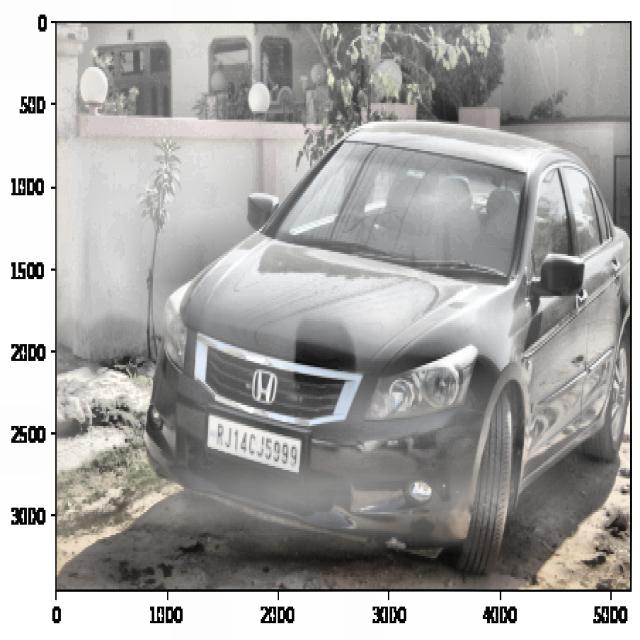license_plate: (210, 418, 300, 472)
